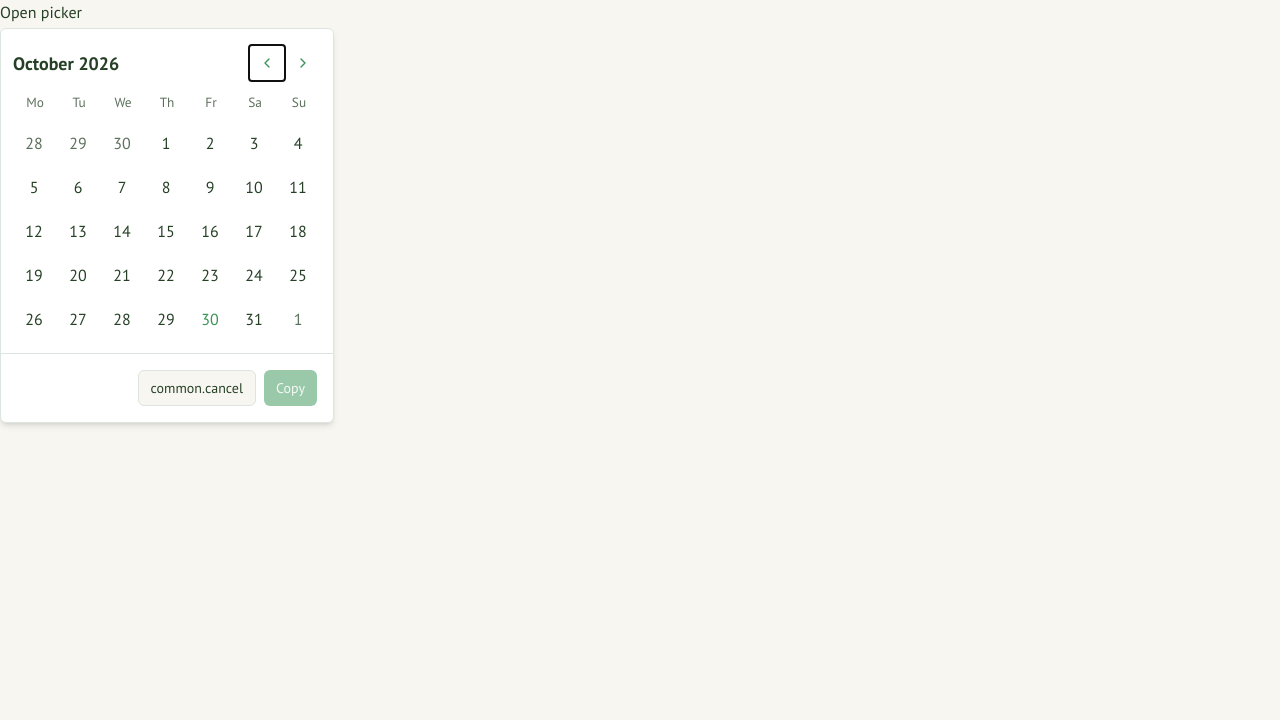
Scenario: CopyToDatePicker › opening and closing › closes popover when cancel is clicked
The image size is (1280, 720).
Expected: the dialog with test id "copy-to-date-picker-popover" is shown, x1=0 y1=28 x2=334 y2=423
Click the button "common.cancel": {"x": 197, "y": 388} x1=138 y1=370 x2=256 y2=406
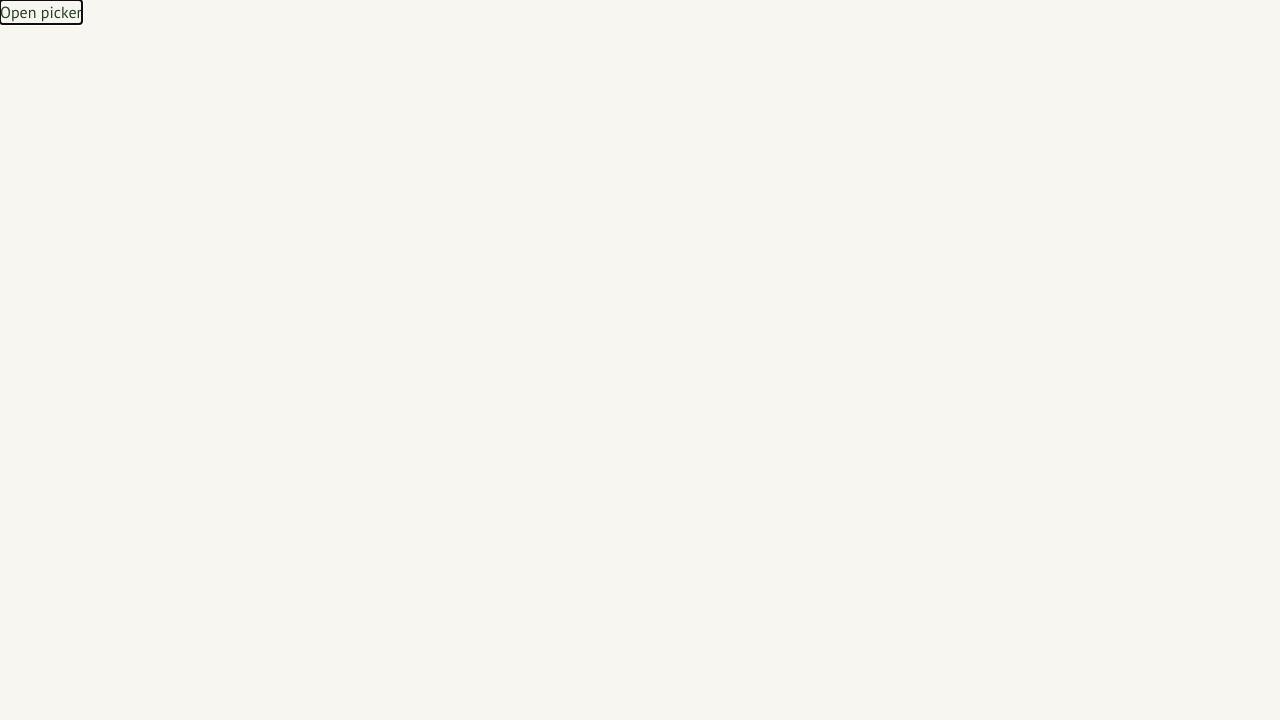
Now the dialog with test id "copy-to-date-picker-popover" is gone
